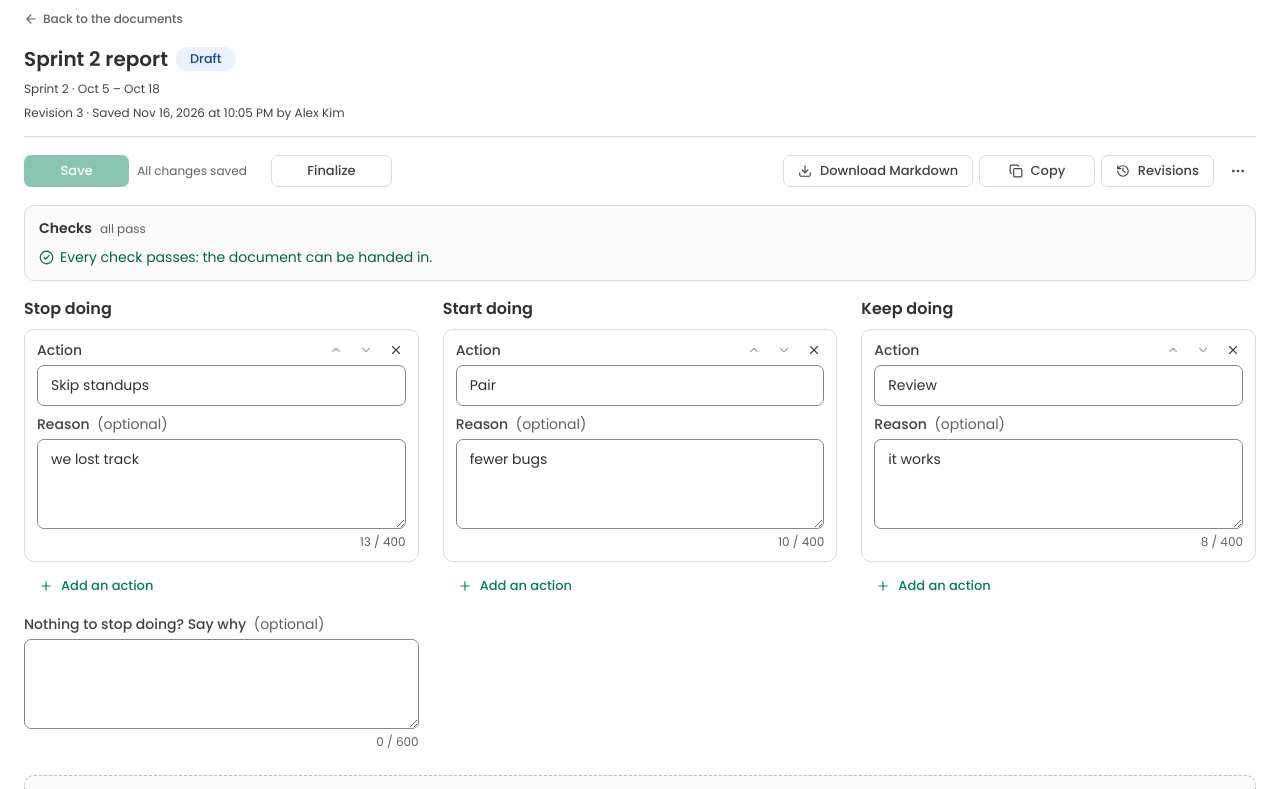
Test: DocumentPage: a team member on the head › finalizes after asking, and says the TAs are told
Click the button "Finalize": [331, 171] box left=271, top=155, right=392, bottom=187
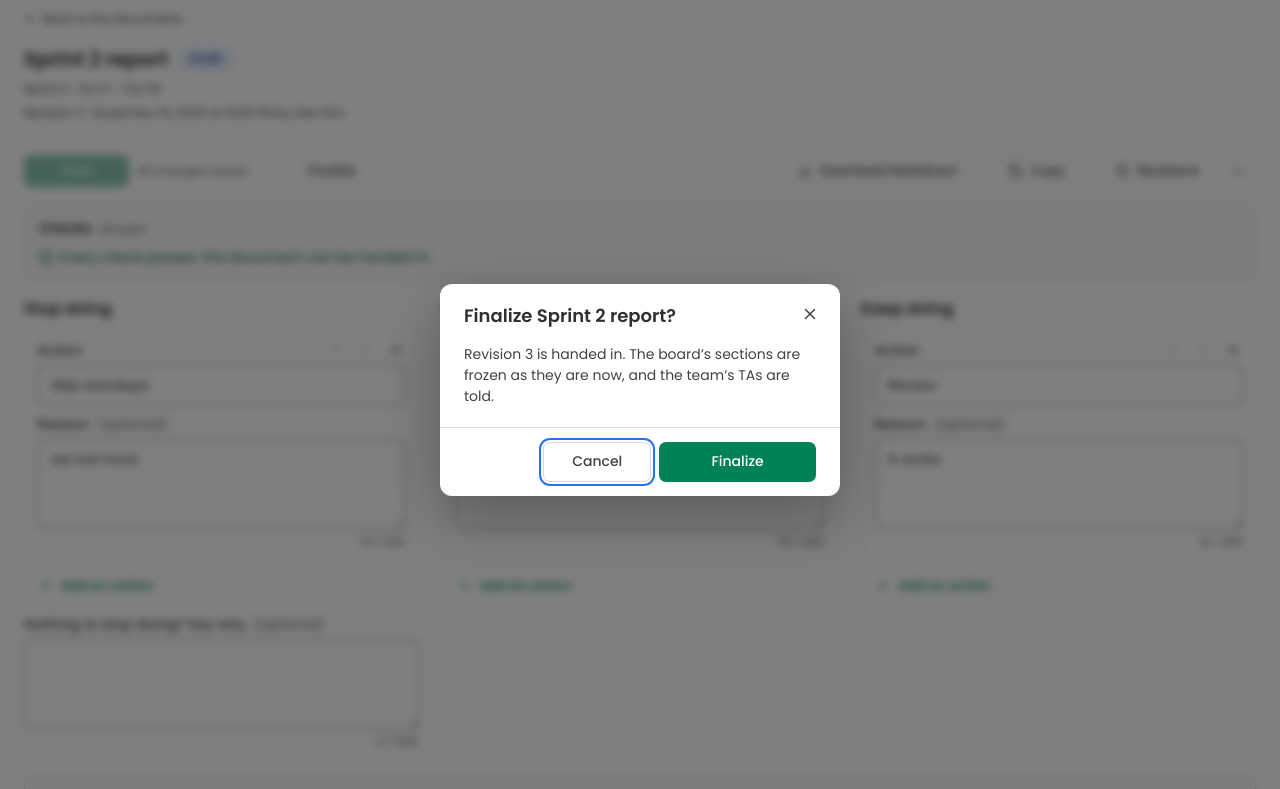
Expected: the dialog "Finalize Sprint 2 report?" shows "Revision 3 is handed in.", left=464, top=344, right=800, bottom=406
Click the button "Finalize": [738, 462] box left=659, top=442, right=816, bottom=482
(page scrolled)
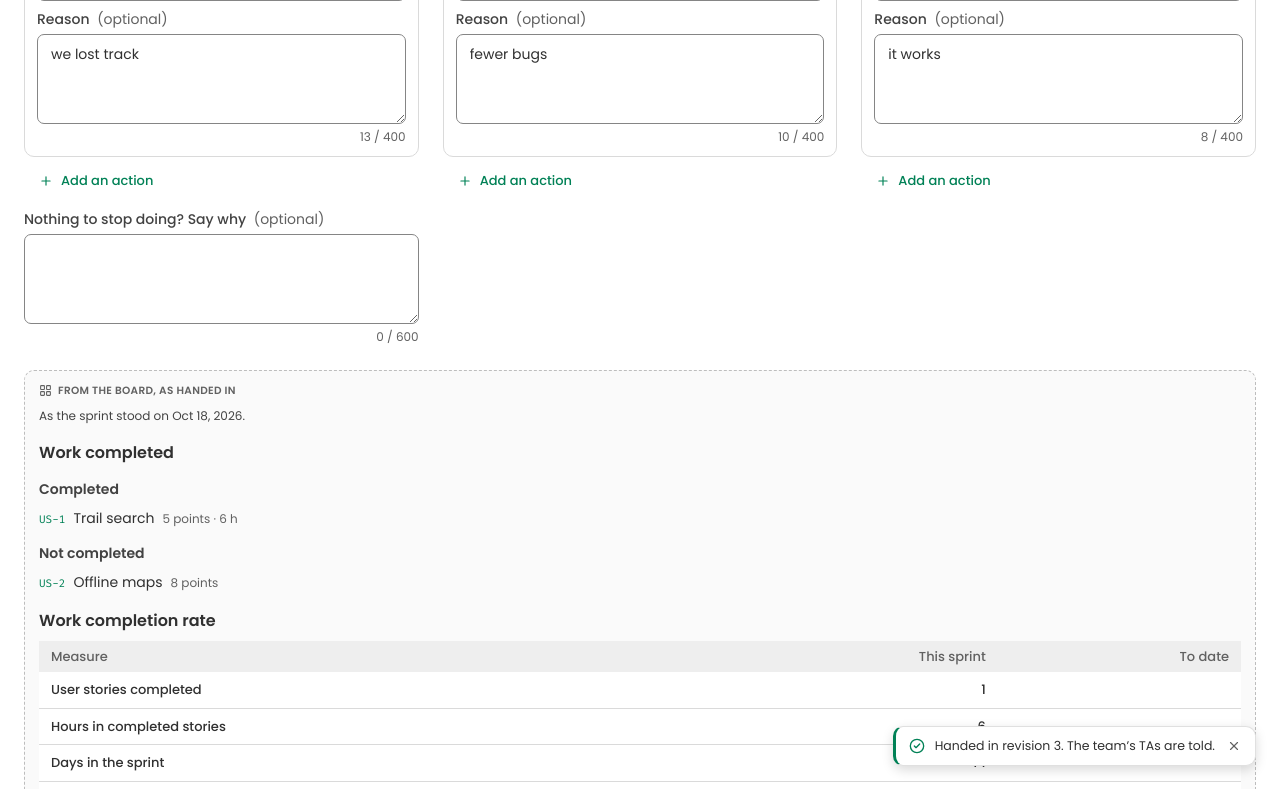
Expected: the text "Handed in revision 3. The team’s TAs are told." is shown, left=935, top=737, right=1215, bottom=755
Expected: the text "From the board, as handed in" is shown, left=39, top=383, right=236, bottom=398
